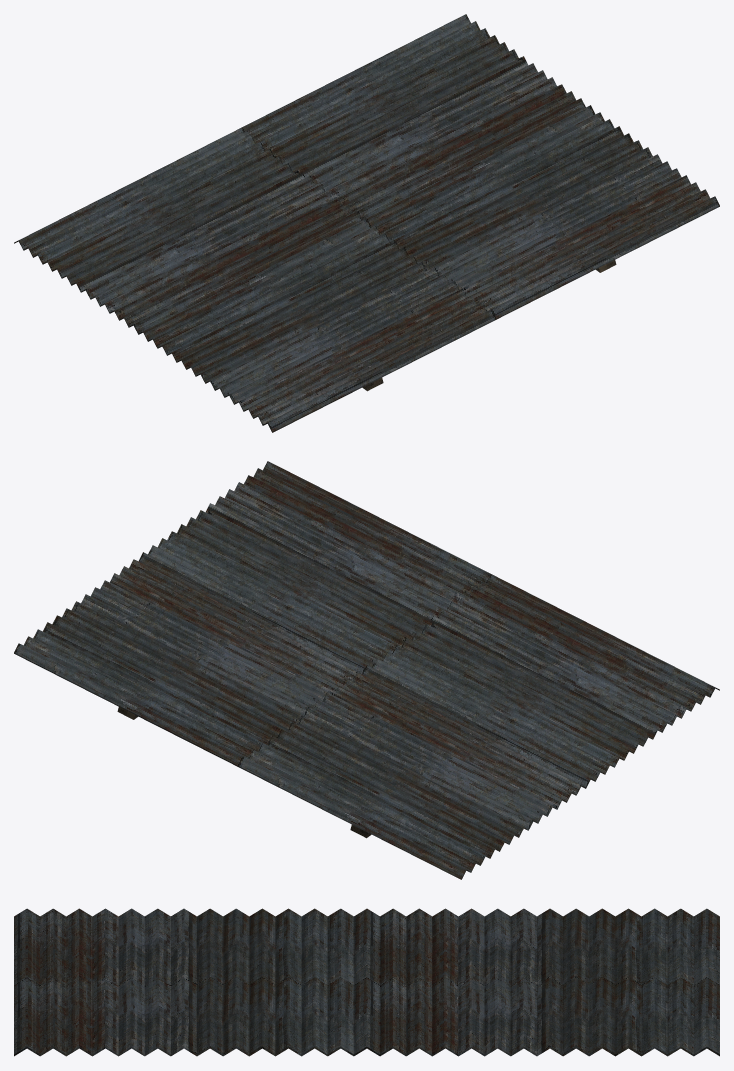
Rendered from roof_hr_3_middle_angle.glb.
3 renders of one model, top to bottom at view 1: azimuth 30°, elevation 25°; view 2: azimuth 150°, elevation 25°; view 3: azimuth 270°, elevation 25°, orthographic. The views are drawn at different scales.
Visible parts, largest first — view 1: roof_hr_3_middle_angle; view 2: roof_hr_3_middle_angle; view 3: roof_hr_3_middle_angle.
Boxes of the visible parts, box(x1,y1,x2,y2) form: roof_hr_3_middle_angle: box(14, 14, 719, 432); roof_hr_3_middle_angle: box(14, 461, 719, 879); roof_hr_3_middle_angle: box(14, 908, 719, 1056).
Bounding box in the file's own units: 4 × 1.06 × 4.
2 materials, 2 textured.
